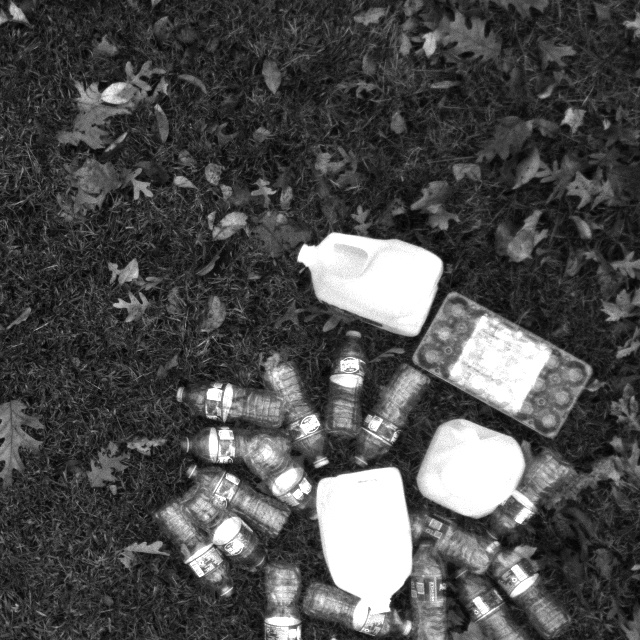bottle: (344, 357, 437, 467), (143, 502, 232, 597), (168, 467, 287, 534), (478, 547, 563, 640), (168, 417, 289, 481), (499, 443, 572, 545), (402, 507, 505, 576), (170, 369, 294, 426), (251, 348, 322, 443), (183, 490, 268, 567), (302, 583, 414, 640), (320, 321, 375, 434), (402, 510, 494, 576), (398, 538, 451, 640), (248, 445, 317, 522), (250, 555, 309, 640), (463, 571, 529, 640)
can: (296, 221, 449, 331), (314, 455, 413, 605), (411, 409, 525, 526)
container: (401, 291, 587, 440)
